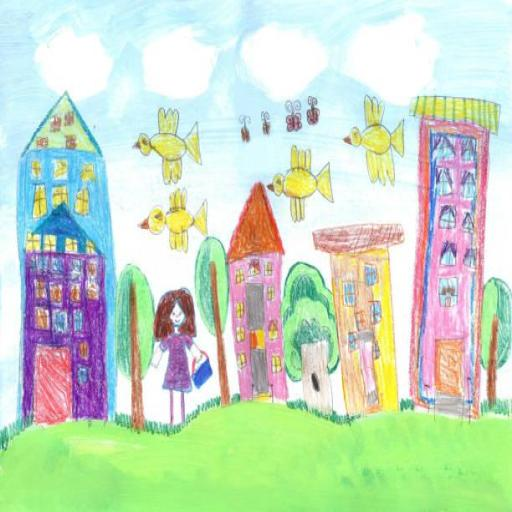person: (142, 283, 213, 436)
